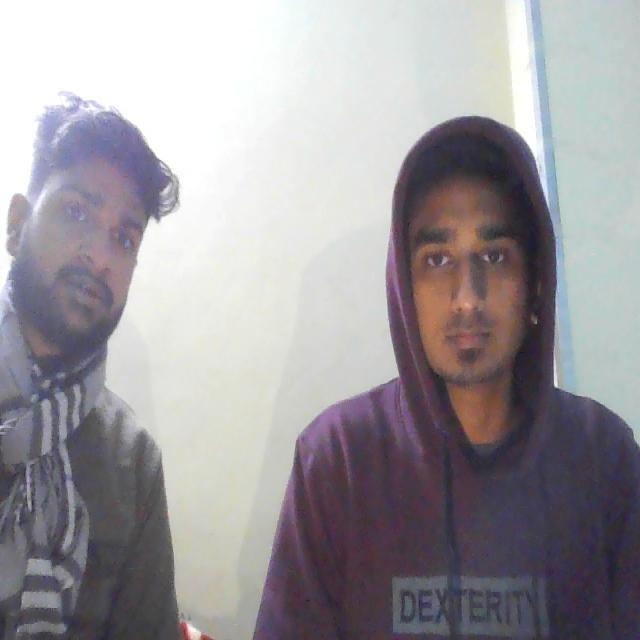real: (395, 116, 552, 412), (14, 94, 152, 354)
